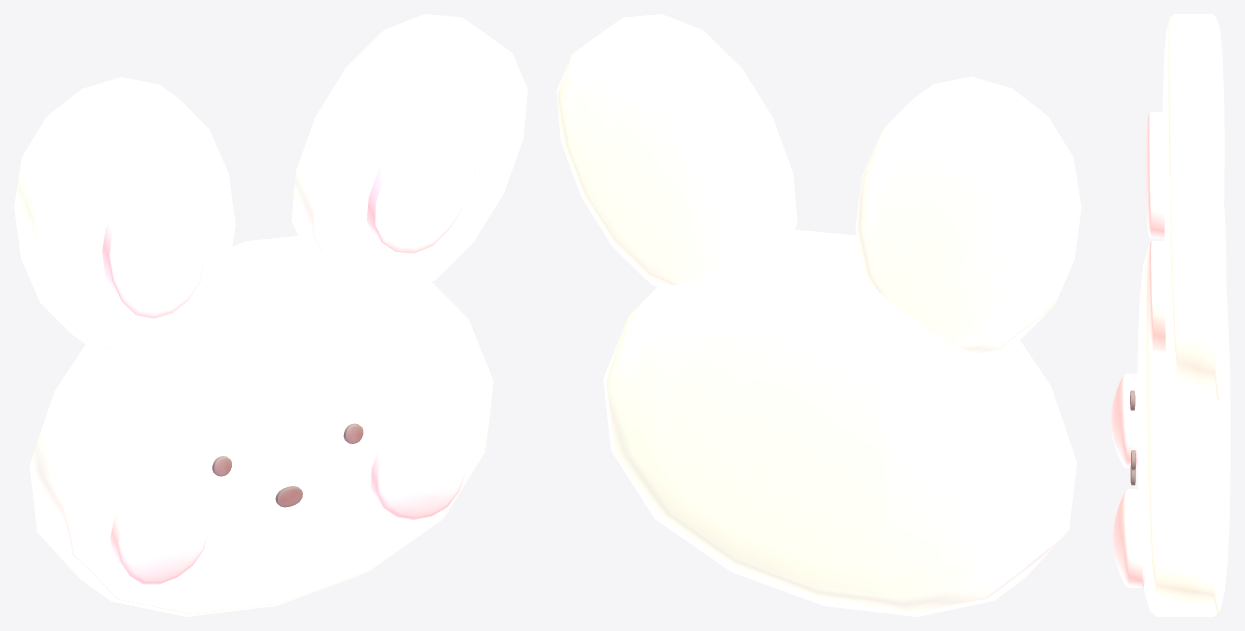
The model's file is mis_bok.glb.
3 renders of one model, left to right at view 1: azimuth 30°, elevation 25°; view 2: azimuth 150°, elevation 25°; view 3: azimuth 270°, elevation 25°, orthographic. The views are drawn at different scales.
Visible parts, largest first — view 1: Rabbit4; view 2: Rabbit4; view 3: Rabbit4.
Part boxes in pixels (x1,y1,x2,y2): Rabbit4: (14, 14, 527, 616); Rabbit4: (556, 14, 1081, 616); Rabbit4: (1110, 14, 1230, 616).
Size of the model in its own units: 0.0143 by 0.0148 by 0.00326.
1 material, 1 textured.
